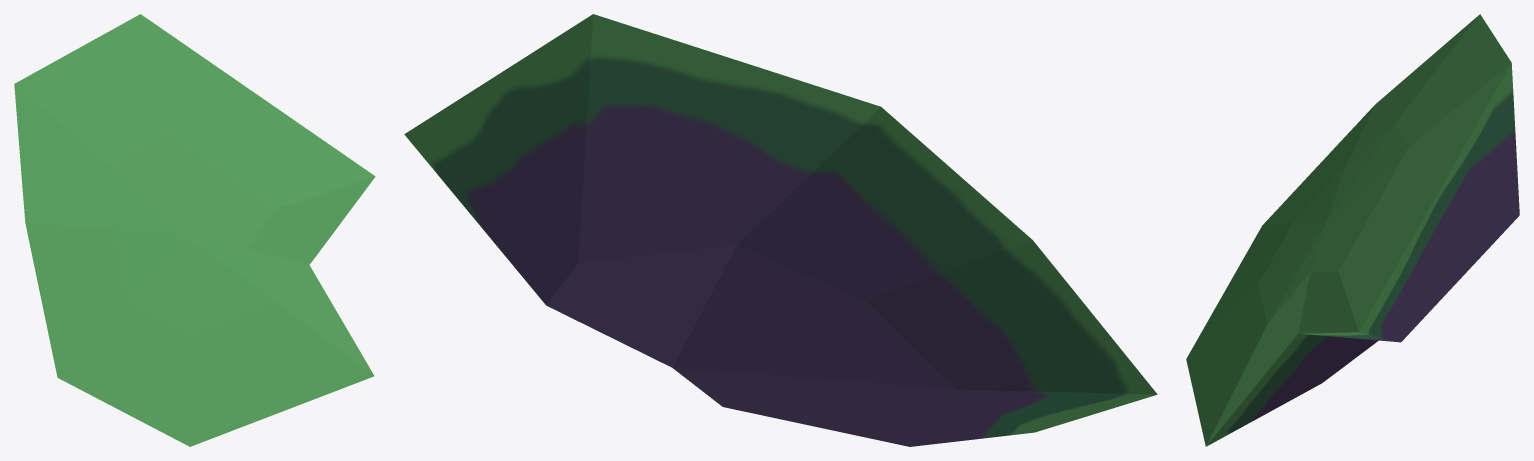
File: Isla pequeña 1.fbx
The picture shows the model from 3 angles, left to right: view 1: azimuth 30°, elevation 25°; view 2: azimuth 150°, elevation 25°; view 3: azimuth 270°, elevation 25°; orthographic projection. The views are drawn at different scales.
Visible parts, largest first — view 1: Isla pequeña 1; view 2: Isla pequeña 1; view 3: Isla pequeña 1.
Part boxes in pixels (<box>): Isla pequeña 1: <box>14,14,375,446</box>; Isla pequeña 1: <box>404,14,1157,446</box>; Isla pequeña 1: <box>1186,14,1519,446</box>.
Bounding box in the file's own units: 1072 × 868 × 754.
